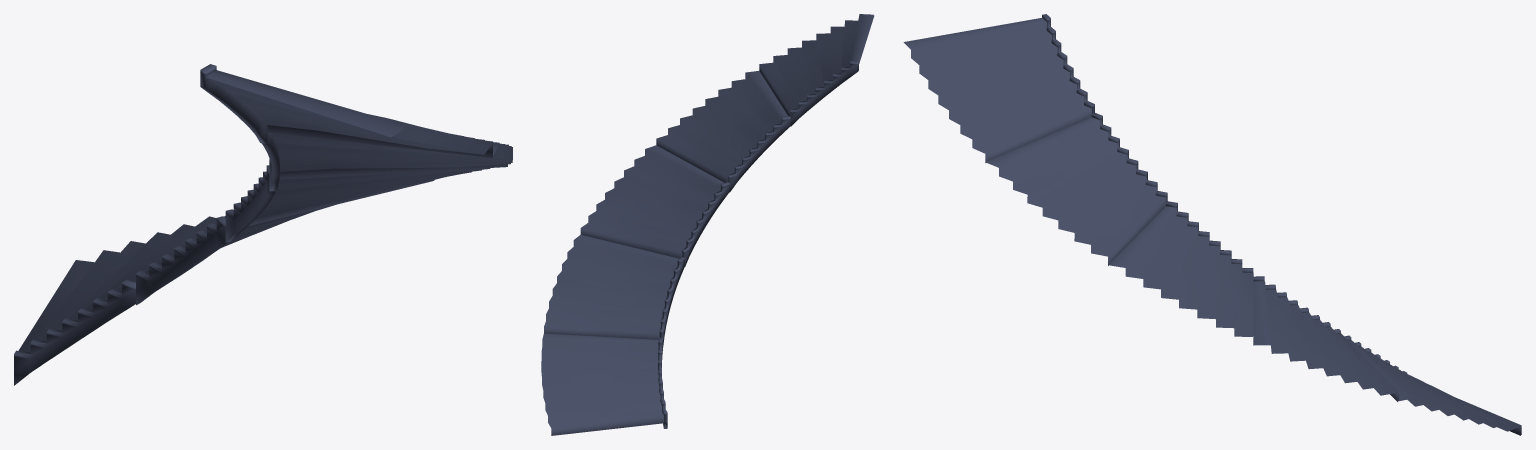
File: Tower_Stair_Int_01B.fbx
The picture shows the model from 3 angles, left to right: view 1: azimuth 30°, elevation 25°; view 2: azimuth 150°, elevation 25°; view 3: azimuth 270°, elevation 25°; orthographic projection. The views are drawn at different scales.
Visible parts, largest first — view 1: Tower_Stair_Int_01B; view 2: Tower_Stair_Int_01B; view 3: Tower_Stair_Int_01B.
Part boxes in pixels (x1,y1,x2,y2): Tower_Stair_Int_01B: (14,64,512,385); Tower_Stair_Int_01B: (541,14,874,435); Tower_Stair_Int_01B: (903,14,1521,435).
Size of the model in its own units: 585 by 777 by 1235.
